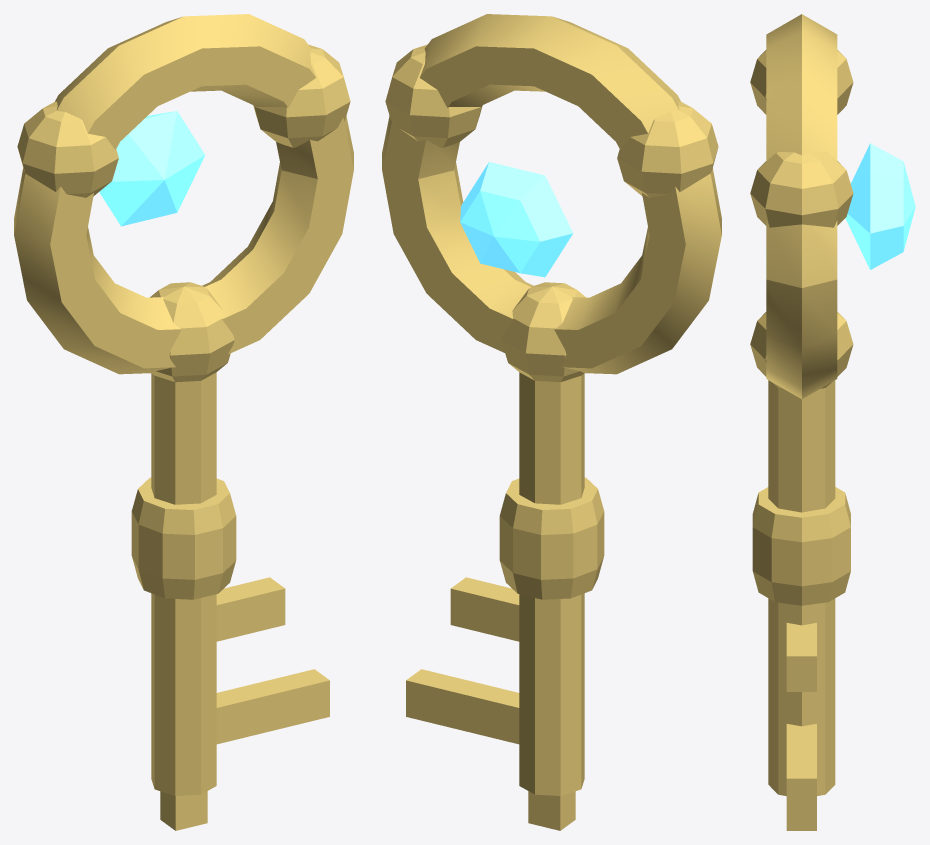
Rendered from key.glb.
3 views of the same model, side by side, from view 1: azimuth 30°, elevation 25°; view 2: azimuth 150°, elevation 25°; view 3: azimuth 270°, elevation 25° (orthographic).
Parts seen in each view (by area): view 1: 034-key-floating/body/gold, 034-key-floating/body/gem; view 2: 034-key-floating/body/gold, 034-key-floating/body/gem; view 3: 034-key-floating/body/gold, 034-key-floating/body/gem.
Part boxes in pixels (x1,y1,x2,y2): 034-key-floating/body/gold: [14, 14, 353, 830]; 034-key-floating/body/gem: [99, 111, 205, 226]; 034-key-floating/body/gold: [382, 14, 721, 830]; 034-key-floating/body/gem: [460, 162, 573, 277]; 034-key-floating/body/gold: [750, 14, 853, 830]; 034-key-floating/body/gem: [845, 143, 915, 269].
Bounding box in the file's own units: 0.1905 × 0.4312 × 0.0818.
